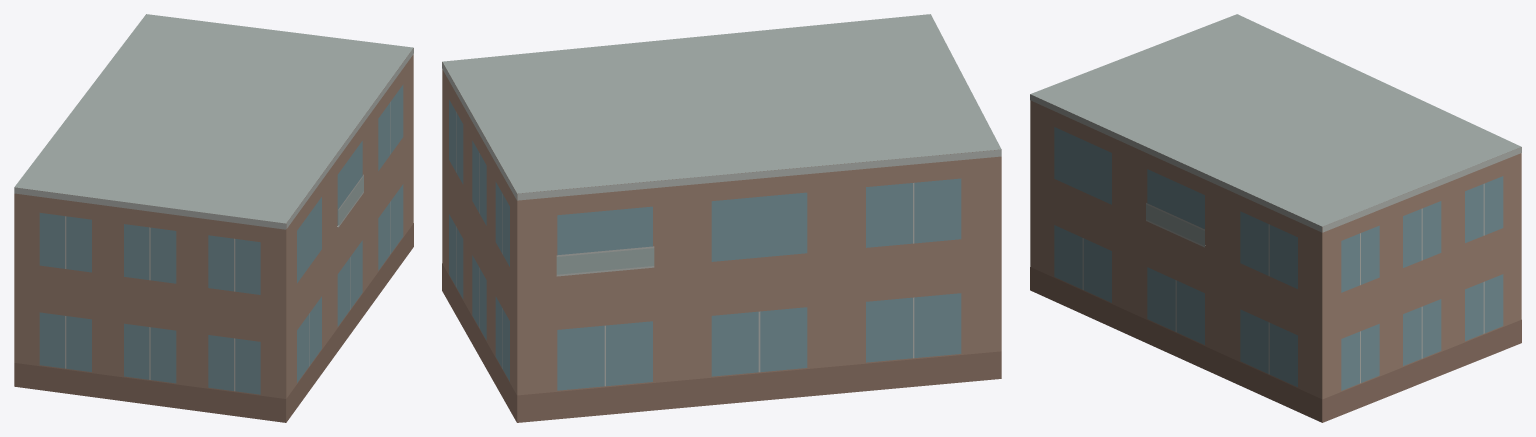
File: survey-upis-32827648.glb
The picture shows the model from 3 angles, left to right: view 1: azimuth 30°, elevation 25°; view 2: azimuth 150°, elevation 25°; view 3: azimuth 270°, elevation 25°; orthographic projection. The views are drawn at different scales.
Visible parts, largest first — view 1: survey-upis-32827648.tmp; view 2: survey-upis-32827648.tmp; view 3: survey-upis-32827648.tmp.
Part boxes in pixels (left/top/right/bottom): survey-upis-32827648.tmp: left=14, top=14, right=413, bottom=422; survey-upis-32827648.tmp: left=442, top=14, right=1001, bottom=422; survey-upis-32827648.tmp: left=1030, top=14, right=1521, bottom=422.
Size of the model in its own units: 18.38 by 7.9 by 17.95.
